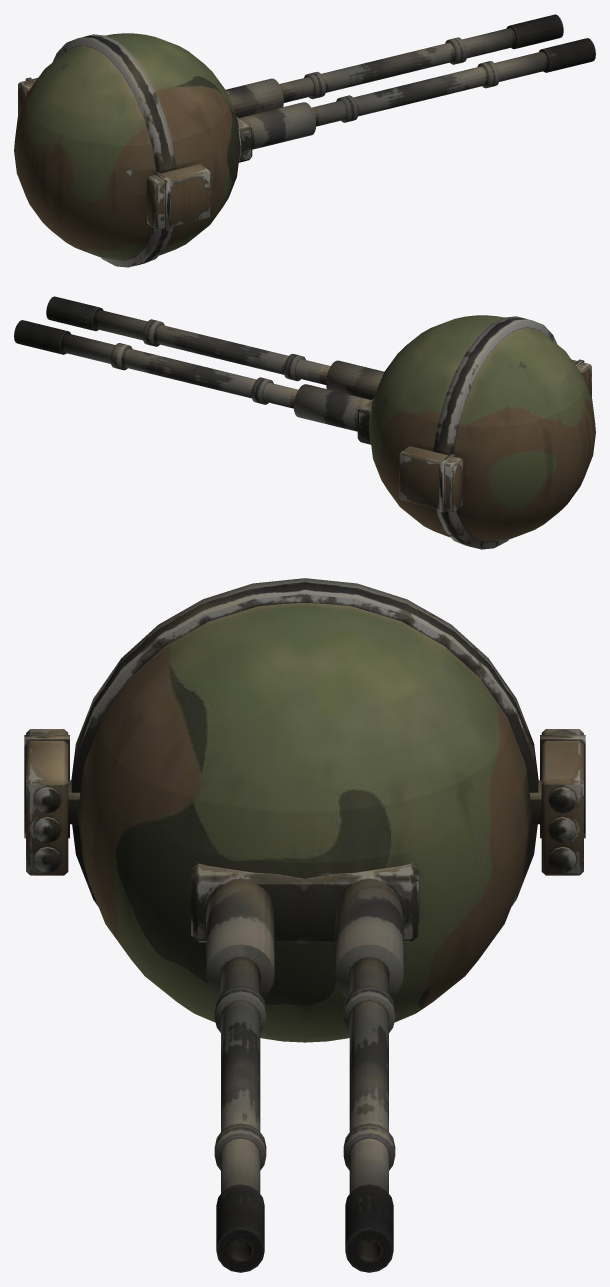
The model's file is turret_kit_tail_ball_t1_forest.glb.
3 renders of one model, top to bottom at view 1: azimuth 30°, elevation 25°; view 2: azimuth 150°, elevation 25°; view 3: azimuth 270°, elevation 25°, orthographic. The views are drawn at different scales.
Parts seen in each view (by area): view 1: turret_tail_ball_t1, pods; view 2: turret_tail_ball_t1, pods; view 3: turret_tail_ball_t1, pods.
Boxes of the visible parts, bbox=[...] form: turret_tail_ball_t1: bbox=[14, 14, 595, 267]; pods: bbox=[18, 77, 210, 230]; turret_tail_ball_t1: bbox=[14, 296, 595, 549]; pods: bbox=[399, 359, 591, 512]; turret_tail_ball_t1: bbox=[71, 578, 538, 1272]; pods: bbox=[24, 729, 585, 875].
Bounding box in the file's own units: 1.66 × 0.62 × 0.7402.
Materials: 2 (2 with a texture image).
